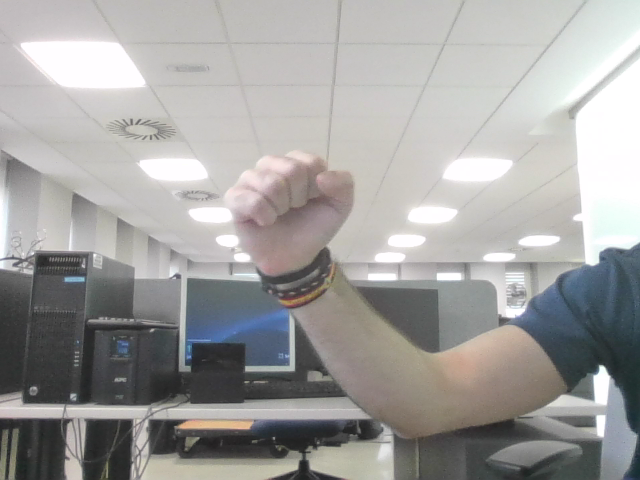Puño: (238, 162, 341, 237)
